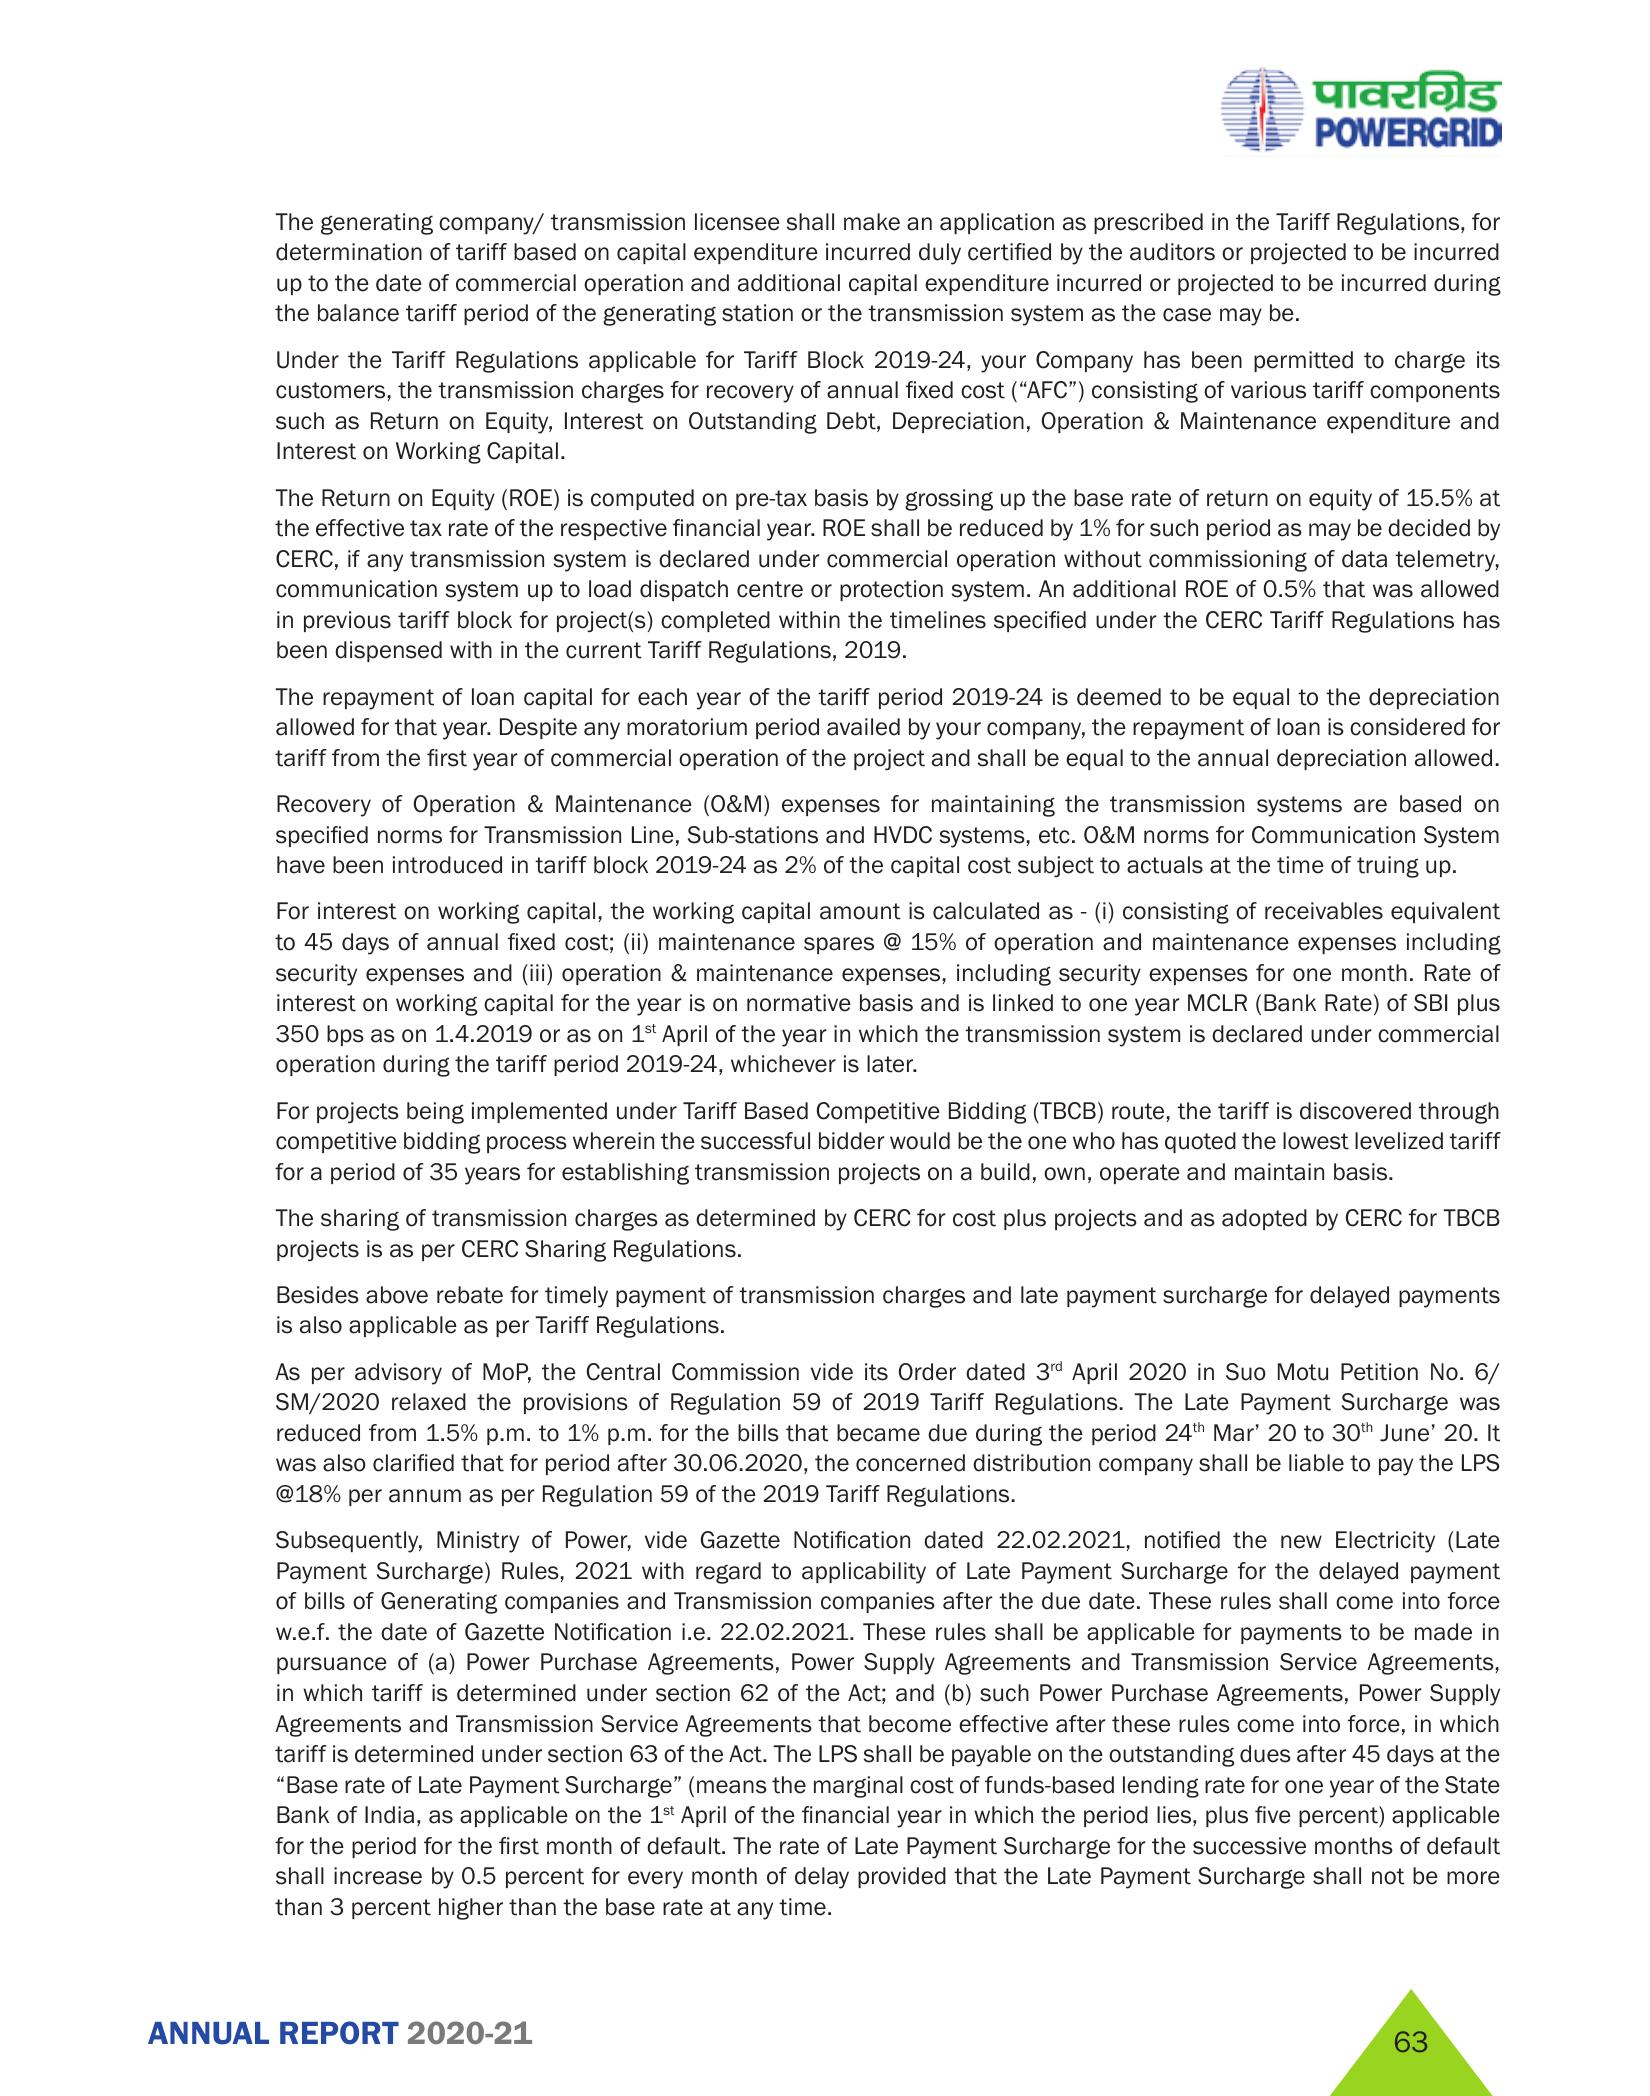Footer: (0, 1945, 1650, 2096)
Header: (0, 0, 1650, 172)
